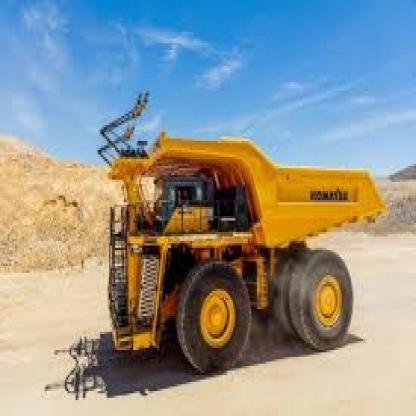dump_truck: (97, 130, 386, 380)
